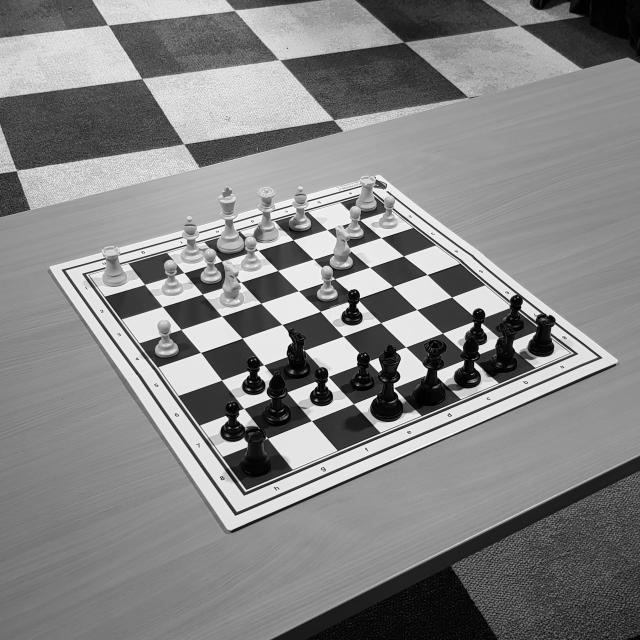chessboard: (89, 194, 572, 490)
